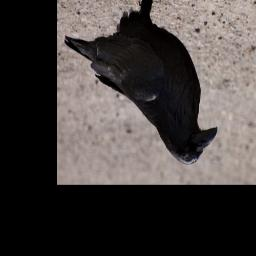Crow: (62, 0, 219, 166)
